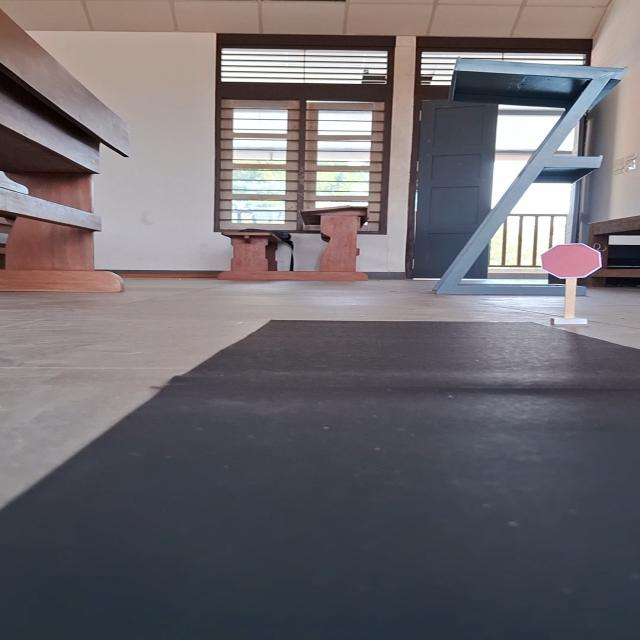Stop: (539, 243, 604, 279)
